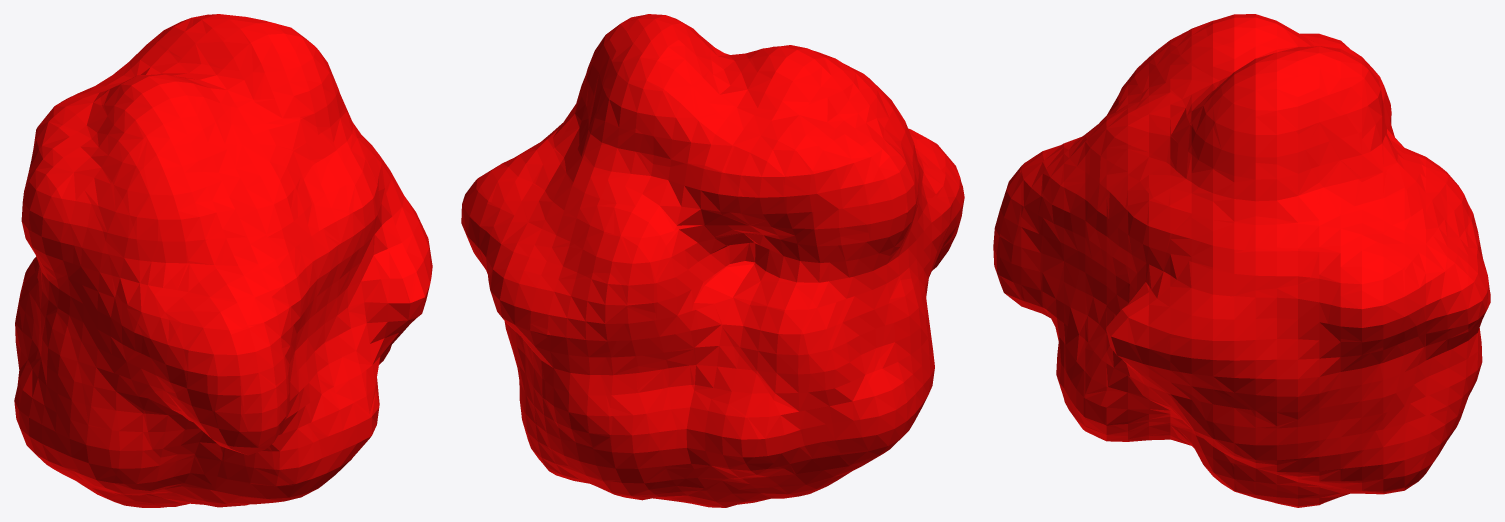
The model's file is mmuM_coarse.dae.
3 views of the same model, side by side, from view 1: azimuth 30°, elevation 25°; view 2: azimuth 150°, elevation 25°; view 3: azimuth 270°, elevation 25° (orthographic).
Visible parts, largest first — view 1: mmuM; view 2: mmuM; view 3: mmuM.
Part boxes in pixels (x1,y1,x2,y2): mmuM: [14, 14, 432, 507]; mmuM: [461, 14, 964, 507]; mmuM: [993, 14, 1490, 507].
Bounding box in the file's own units: 46.86 × 52.64 × 52.21.
